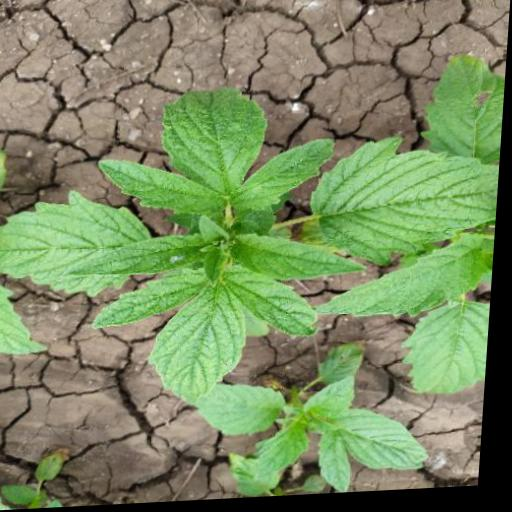crop: (0, 41, 509, 407), (168, 360, 458, 504)
